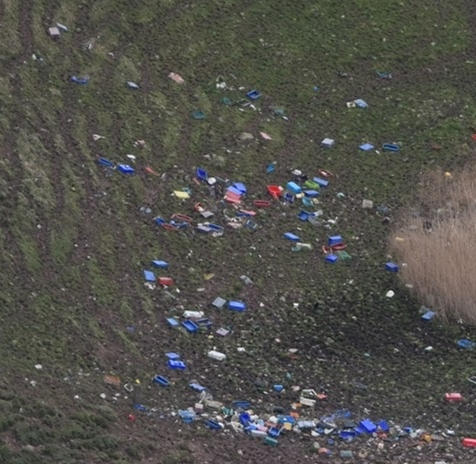scattered_barrel: (120, 251, 263, 372), (41, 16, 190, 99), (305, 62, 414, 161), (379, 256, 476, 355), (194, 69, 295, 154), (86, 368, 173, 426)
together_barrel: (99, 147, 358, 263), (173, 372, 476, 455)
